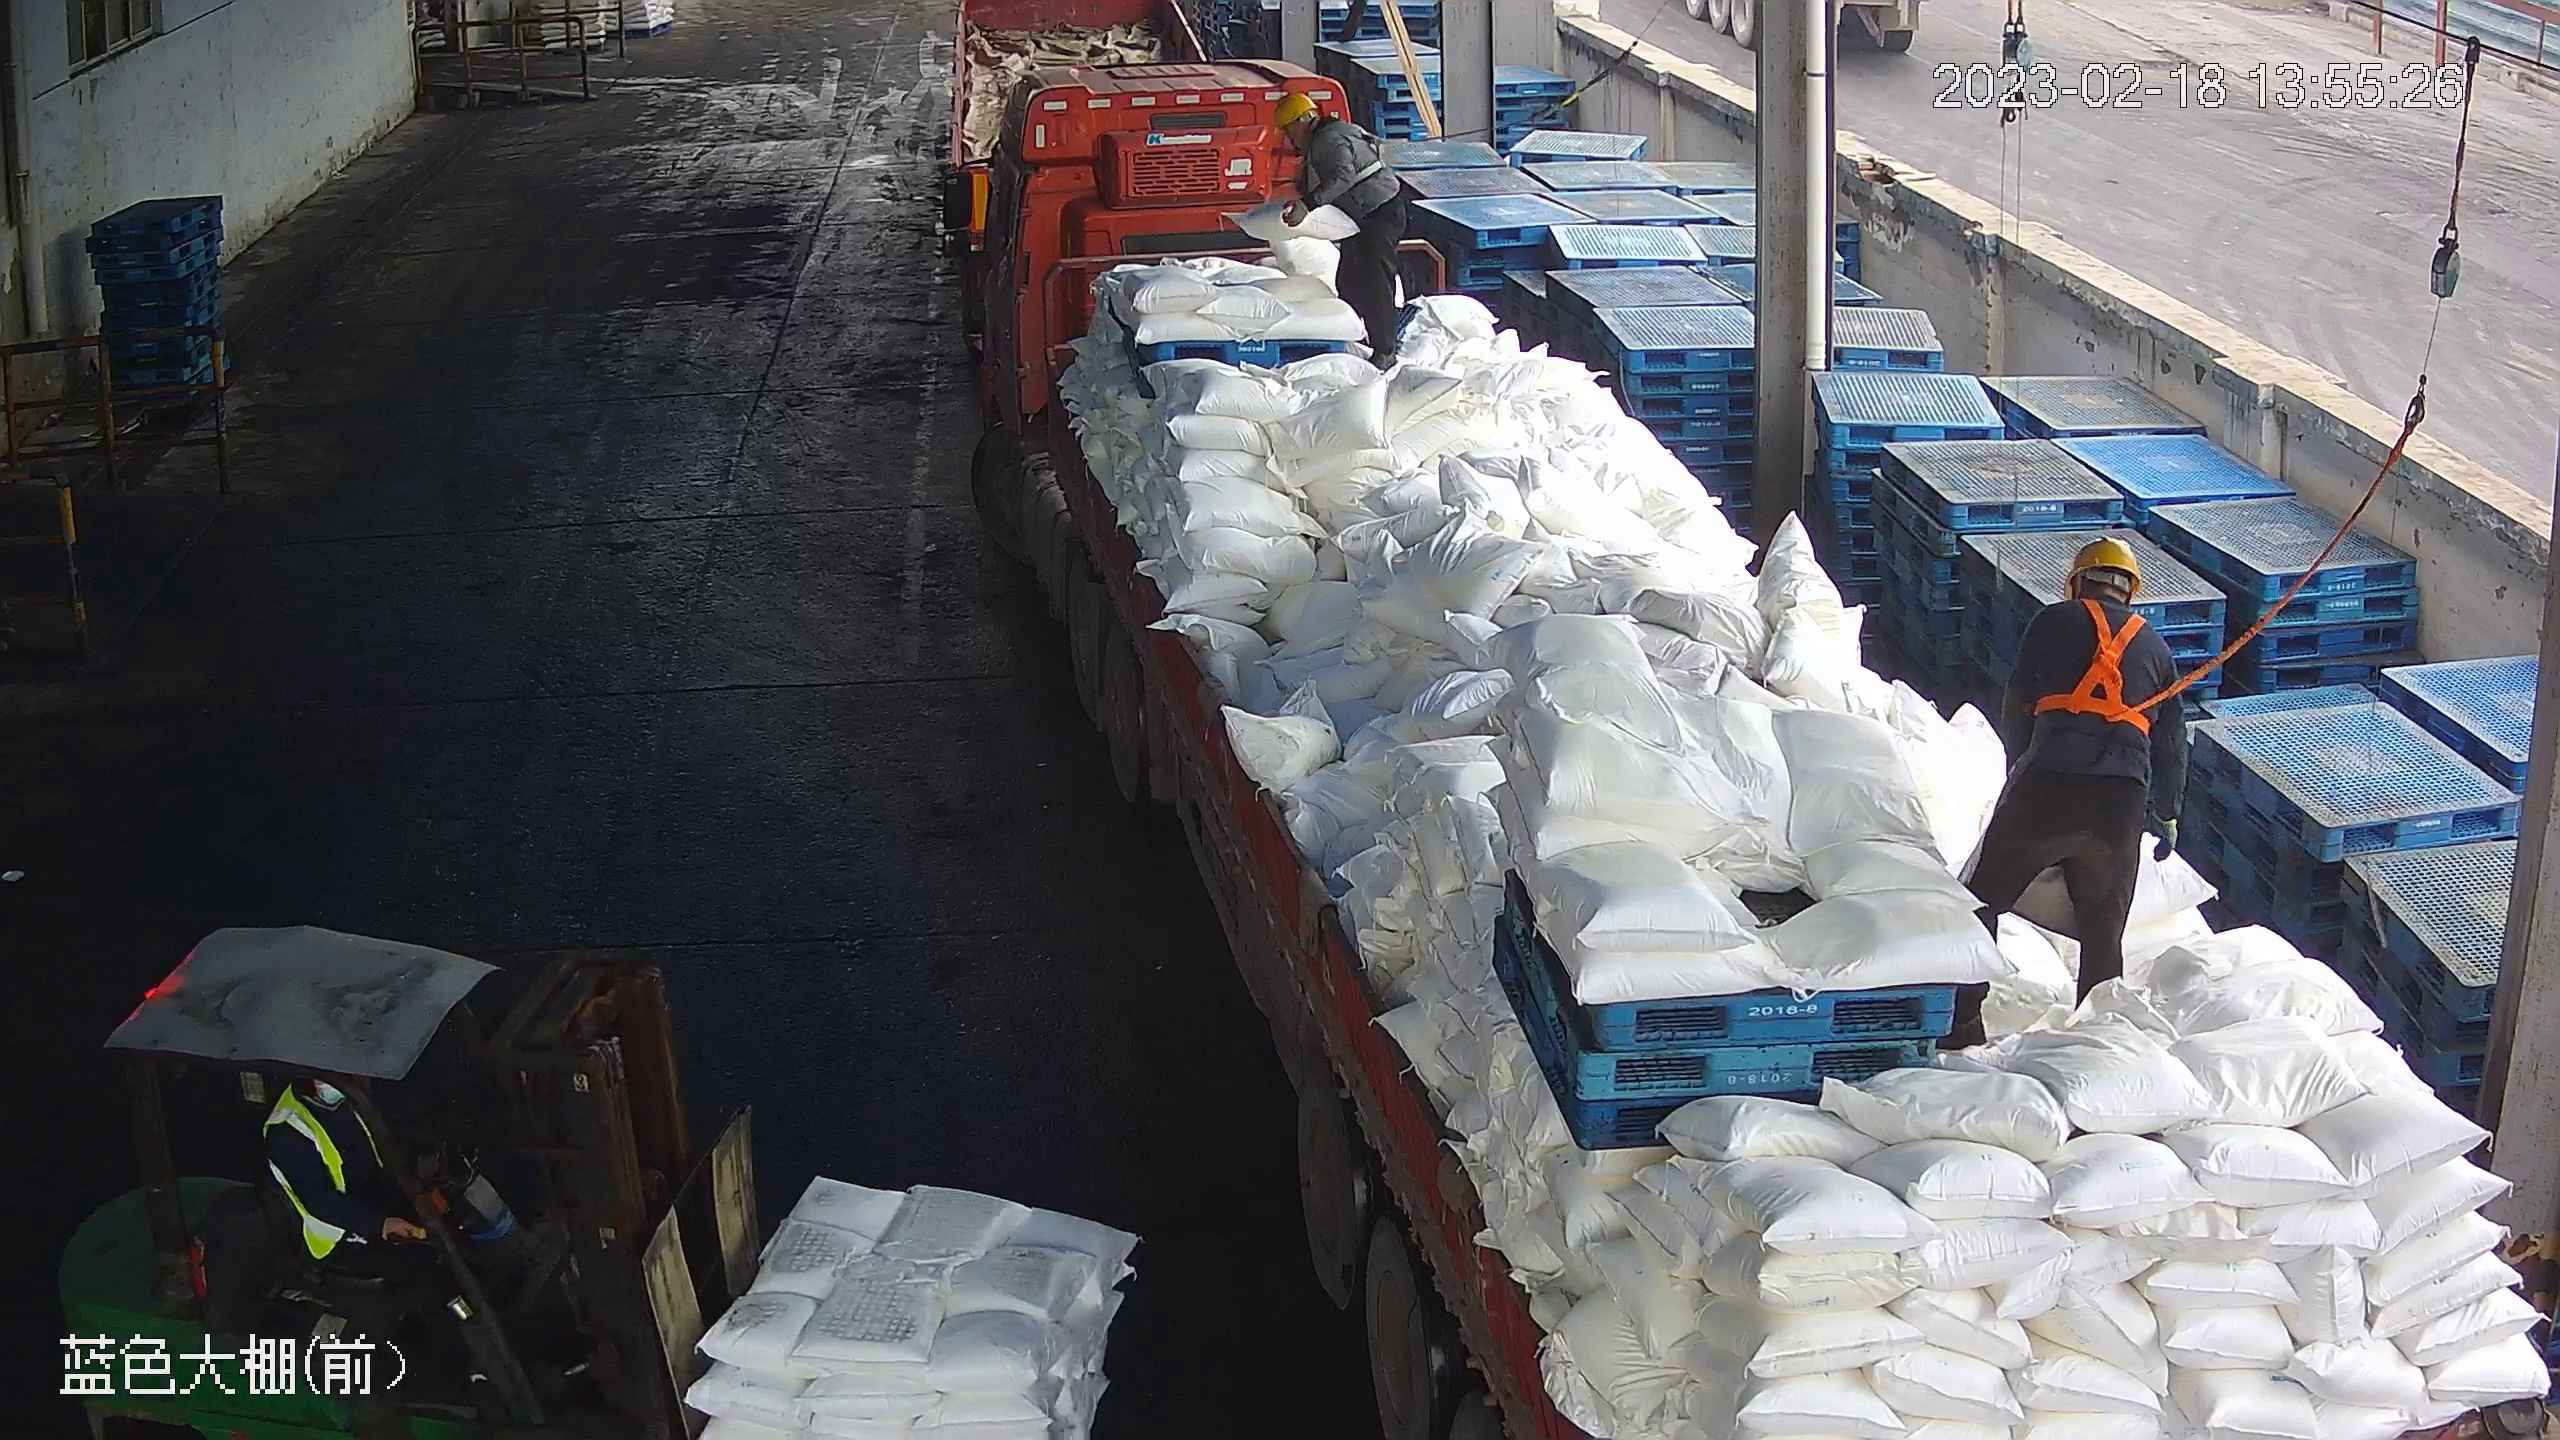belt: (2034, 594, 2165, 732), (1319, 116, 1396, 192)
head: (2026, 536, 2182, 675), (1271, 91, 1373, 166)
helmet: (2065, 531, 2146, 597), (1273, 92, 1320, 135)
people: (1951, 531, 2186, 1038), (253, 1074, 502, 1365), (1272, 89, 1415, 371)
truck: (967, 58, 2558, 1438)
